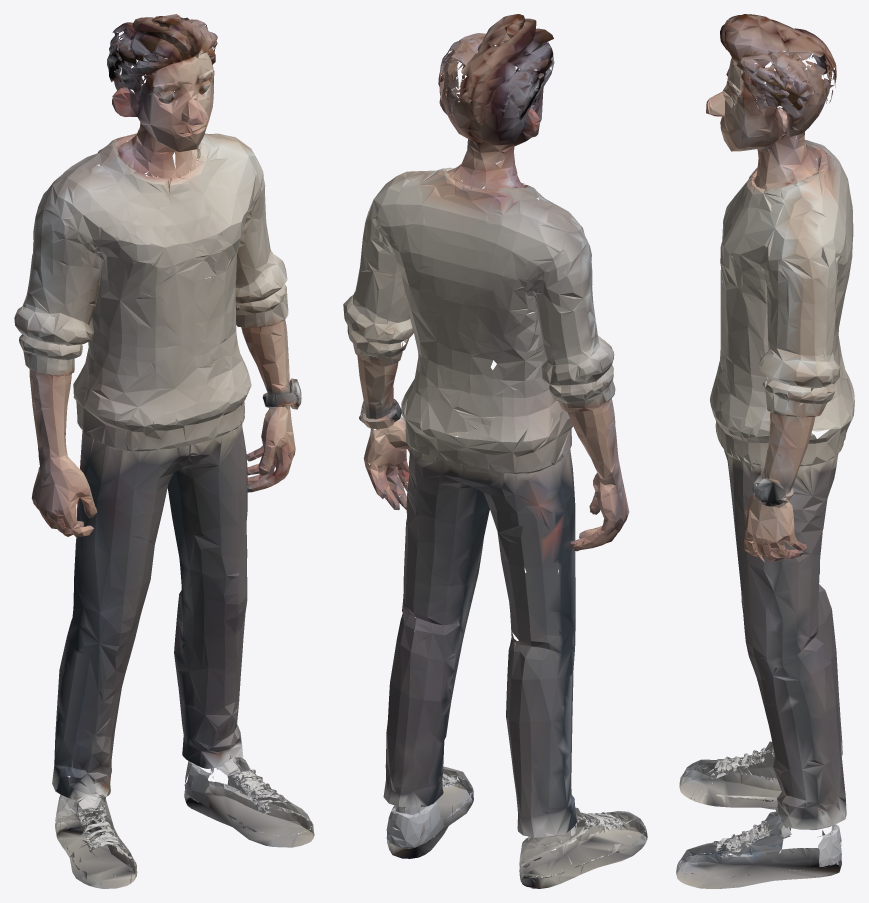
The model's file is gadzhi.glb.
The picture shows the model from 3 angles, left to right: view 1: azimuth 30°, elevation 25°; view 2: azimuth 150°, elevation 25°; view 3: azimuth 270°, elevation 25°; orthographic projection.
Bounding box in the file's own units: 0.5949 × 1.8 × 0.3567.
